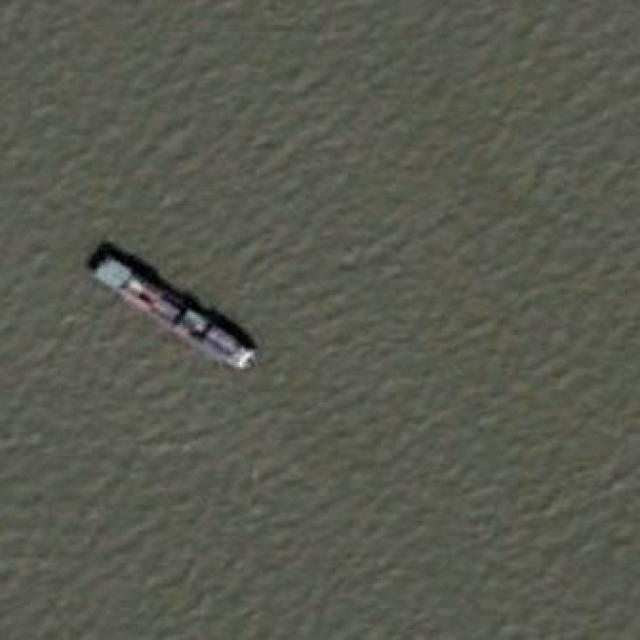ship: (86, 248, 260, 372)
